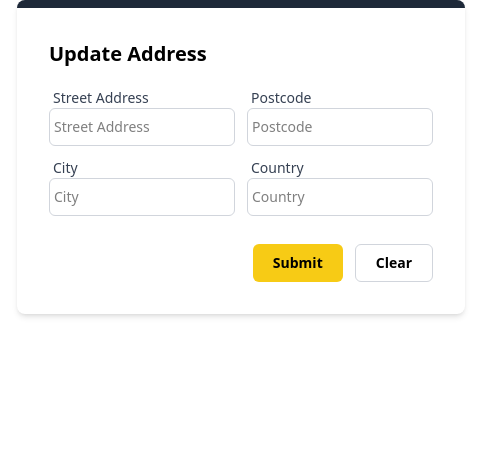
Test case: APP - pages/user - OnboardingForm › handleFieldChange validation branches
This screenshot has width=483, height=459.
Step 1. Type "A" into the field labelled "City" → (142, 197), box [49,178,235,216]
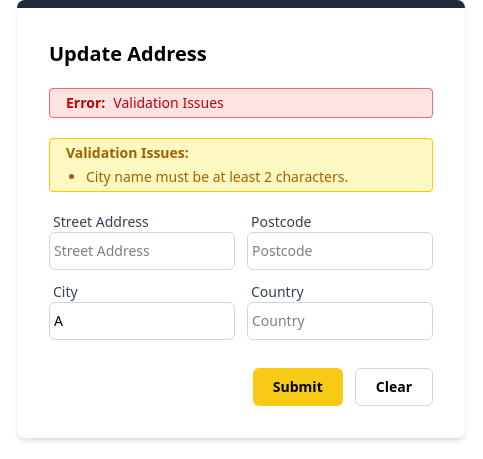
Now the text "Validation Issues" is shown, box [105,93,224,112]
Now the list item "City name must be at least 2 characters." is shown, box [86,167,348,186]
Step 2. Replace the text in the field labelled "City" with "Glasgow" → (142, 321), box [49,302,235,340]
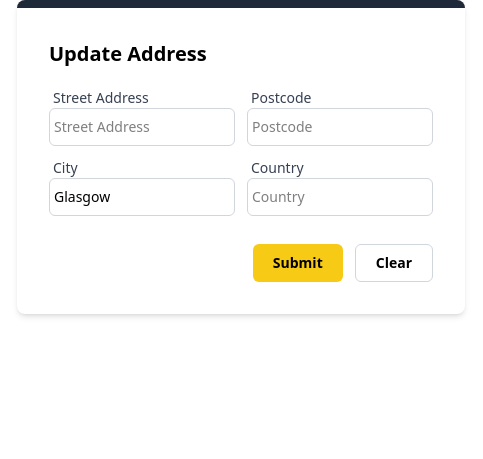
Now the list item "City name must be at least 2 characters" is gone
